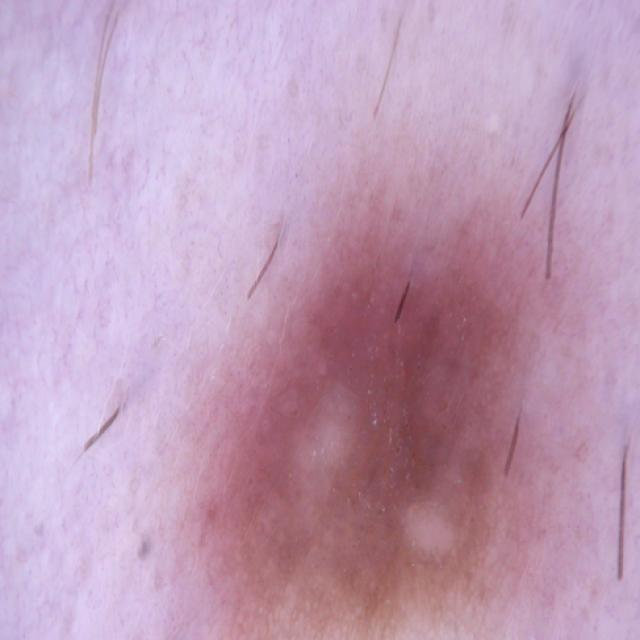Dermatofibroma: (161, 211, 630, 640)
